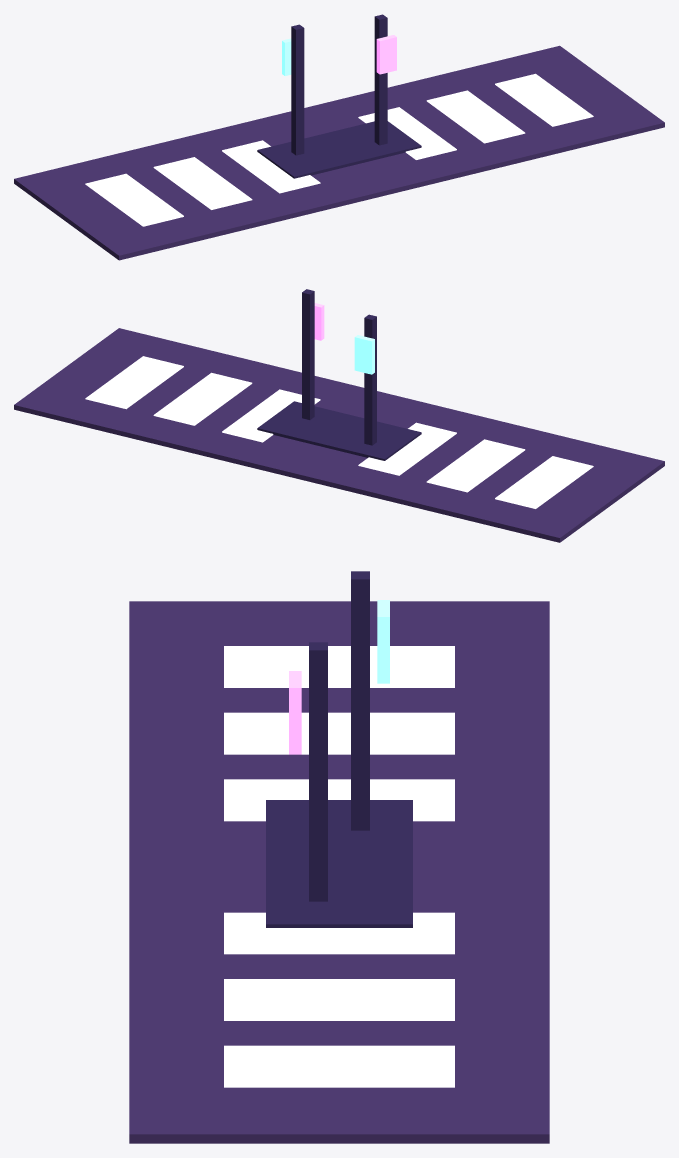
File: 19_crosswalk_signal_island.glb
3 views of the same model, one above another, from view 1: azimuth 30°, elevation 25°; view 2: azimuth 150°, elevation 25°; view 3: azimuth 270°, elevation 25° (orthographic). The views are drawn at different scales.
Visible parts, largest first — view 1: roadside_0, island_1, crosswalk_3, crosswalk_6, crosswalk_2, crosswalk_7, crosswalk_4, signal_poleL_8, crosswalk_5, signal_poleR_9, signal_headR_11; view 2: roadside_0, island_1, crosswalk_7, crosswalk_3, crosswalk_6, crosswalk_2, crosswalk_4, signal_poleR_9, crosswalk_5, signal_poleL_8, signal_headL_10, signal_headR_11; view 3: roadside_0, island_1, crosswalk_7, crosswalk_6, crosswalk_3, crosswalk_5, crosswalk_2, crosswalk_4, signal_poleL_8, signal_poleR_9, signal_headL_10, signal_headR_11.
Part boxes in pixels (left/top/right/bottom): roadside_0: left=14, top=45, right=664, bottom=260; island_1: left=257, top=121, right=421, bottom=178; crosswalk_3: left=153, top=157, right=252, bottom=209; crosswalk_6: left=426, top=90, right=525, bottom=143; crosswalk_2: left=85, top=173, right=183, bottom=226; crosswalk_7: left=495, top=73, right=593, bottom=126; crosswalk_4: left=222, top=140, right=320, bottom=193; signal_poleL_8: left=291, top=24, right=304, bottom=155; crosswalk_5: left=358, top=107, right=456, bottom=159; signal_poleR_9: left=374, top=14, right=387, bottom=145; signal_headR_11: left=376, top=35, right=396, bottom=74; roadside_0: left=14, top=328, right=664, bottom=542; island_1: left=257, top=401, right=421, bottom=460; crosswalk_7: left=85, top=356, right=183, bottom=409; crosswalk_3: left=426, top=439, right=525, bottom=492; crosswalk_6: left=153, top=372, right=252, bottom=425; crosswalk_2: left=495, top=456, right=593, bottom=508; crosswalk_4: left=358, top=422, right=456, bottom=475; signal_poleR_9: left=302, top=289, right=314, bottom=419; crosswalk_5: left=222, top=389, right=320, bottom=442; signal_poleL_8: left=364, top=314, right=376, bottom=445; signal_headL_10: left=354, top=335, right=374, bottom=374; signal_headR_11: left=314, top=303, right=324, bottom=340; roadside_0: left=129, top=601, right=549, bottom=1143; island_1: left=266, top=800, right=412, bottom=927; crosswalk_7: left=224, top=1045, right=454, bottom=1087; crosswalk_6: left=224, top=979, right=454, bottom=1020; crosswalk_3: left=224, top=712, right=454, bottom=754; crosswalk_5: left=224, top=912, right=454, bottom=954; crosswalk_2: left=224, top=646, right=454, bottom=687; crosswalk_4: left=224, top=779, right=454, bottom=821; signal_poleL_8: left=351, top=571, right=369, bottom=830; signal_poleR_9: left=309, top=642, right=327, bottom=901; signal_headL_10: left=377, top=600, right=389, bottom=683; signal_headR_11: left=289, top=671, right=301, bottom=754.
Size of the model in its own units: 12 by 2.8 by 4.
